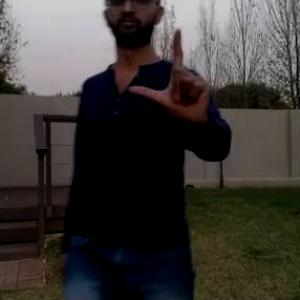land_hand: (130, 25, 215, 129)
